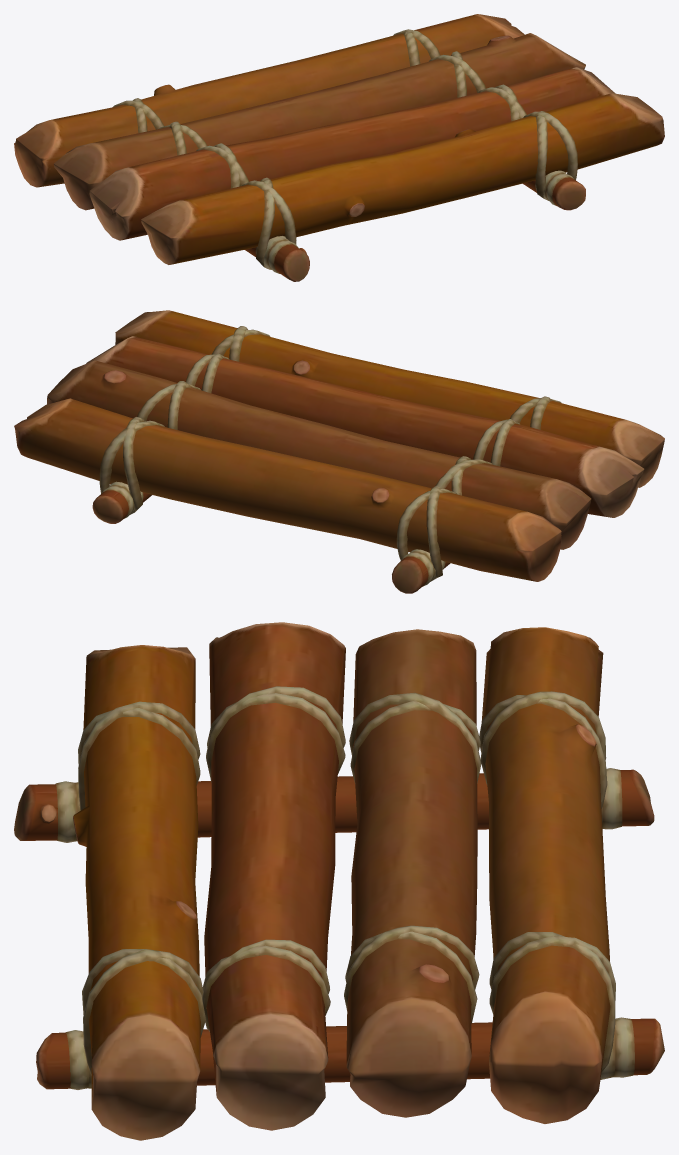
Rendered from bridge-log.glb.
The picture shows the model from 3 angles, top to bottom: view 1: azimuth 30°, elevation 25°; view 2: azimuth 150°, elevation 25°; view 3: azimuth 270°, elevation 25°; orthographic projection. The views are drawn at different scales.
Size of the model in its own units: 36.67 by 6.05 by 22.89.
1 material, 1 textured.
